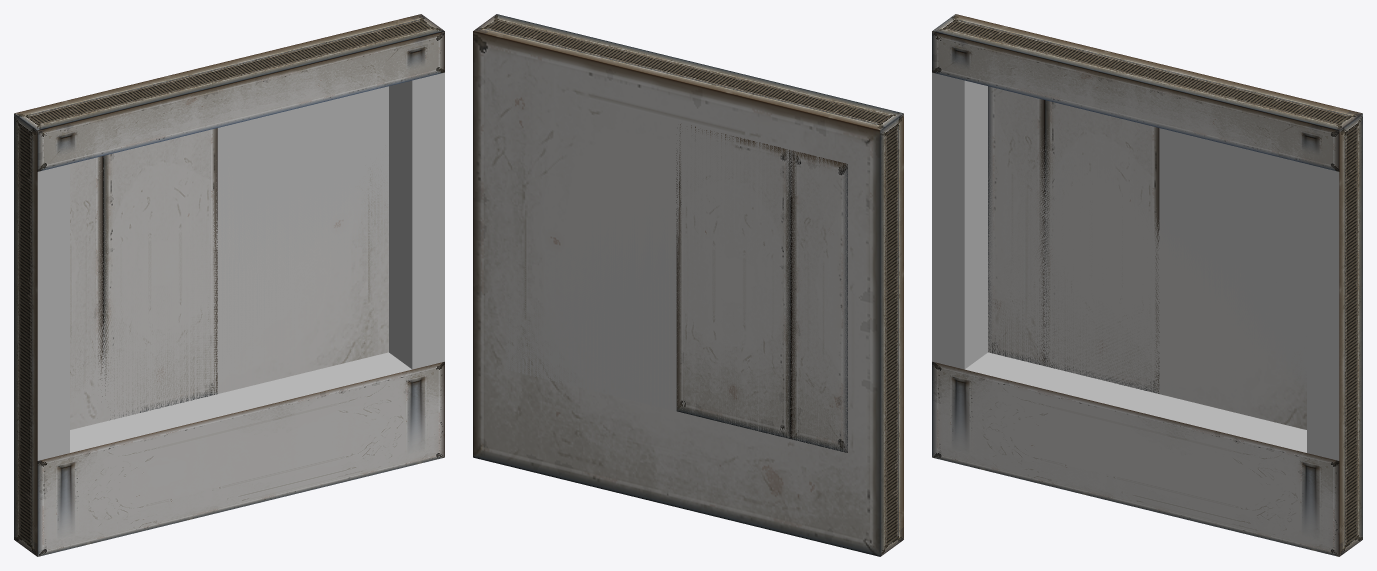
File: scifi_wall4_7.FBX
The picture shows the model from 3 angles, left to right: view 1: azimuth 30°, elevation 25°; view 2: azimuth 150°, elevation 25°; view 3: azimuth 330°, elevation 25°; orthographic projection.
Visible parts, largest first — view 1: Plane024; view 2: Plane024; view 3: Plane024.
Boxes of the visible parts, x1,y1,x2,y2 form: Plane024: (14, 14, 444, 556); Plane024: (473, 14, 903, 556); Plane024: (932, 14, 1362, 556).
Size of the model in its own units: 254 by 254 by 25.4.
